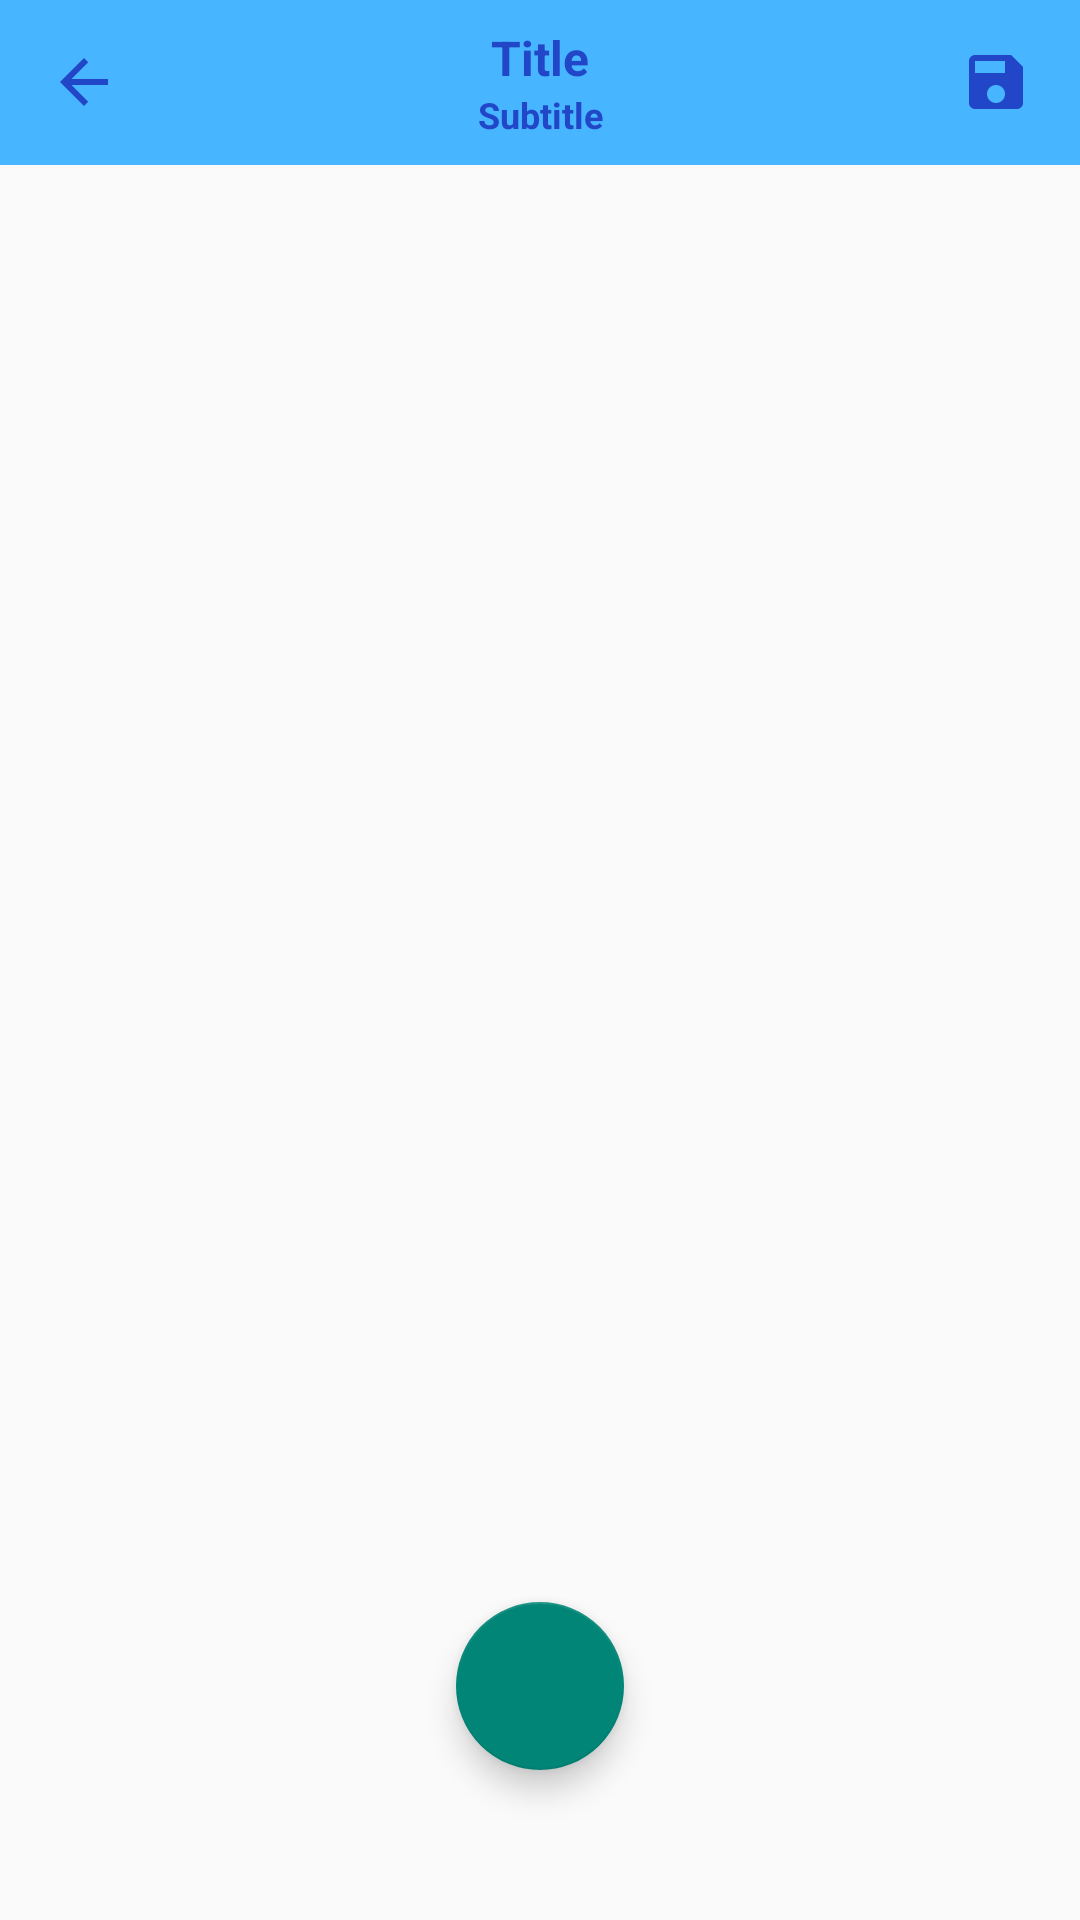

Screen size 1080×1920. Icon name, then its center in pixels as (x,y):
back: (84,82)
save: (996,82)
